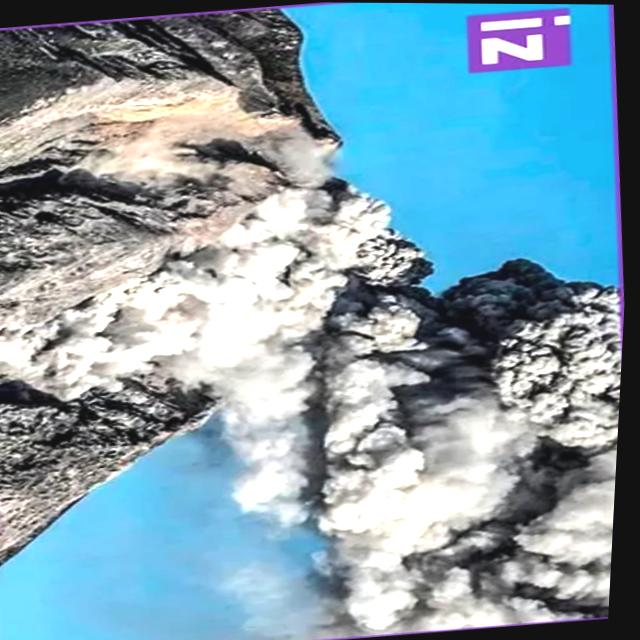no_helmet: (190, 143, 634, 640)
